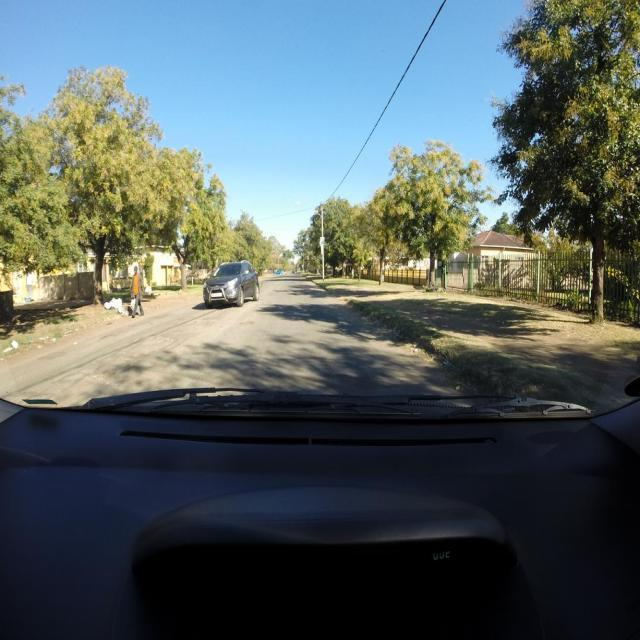pothole: (130, 335, 175, 357), (70, 370, 115, 391), (240, 322, 254, 326)
